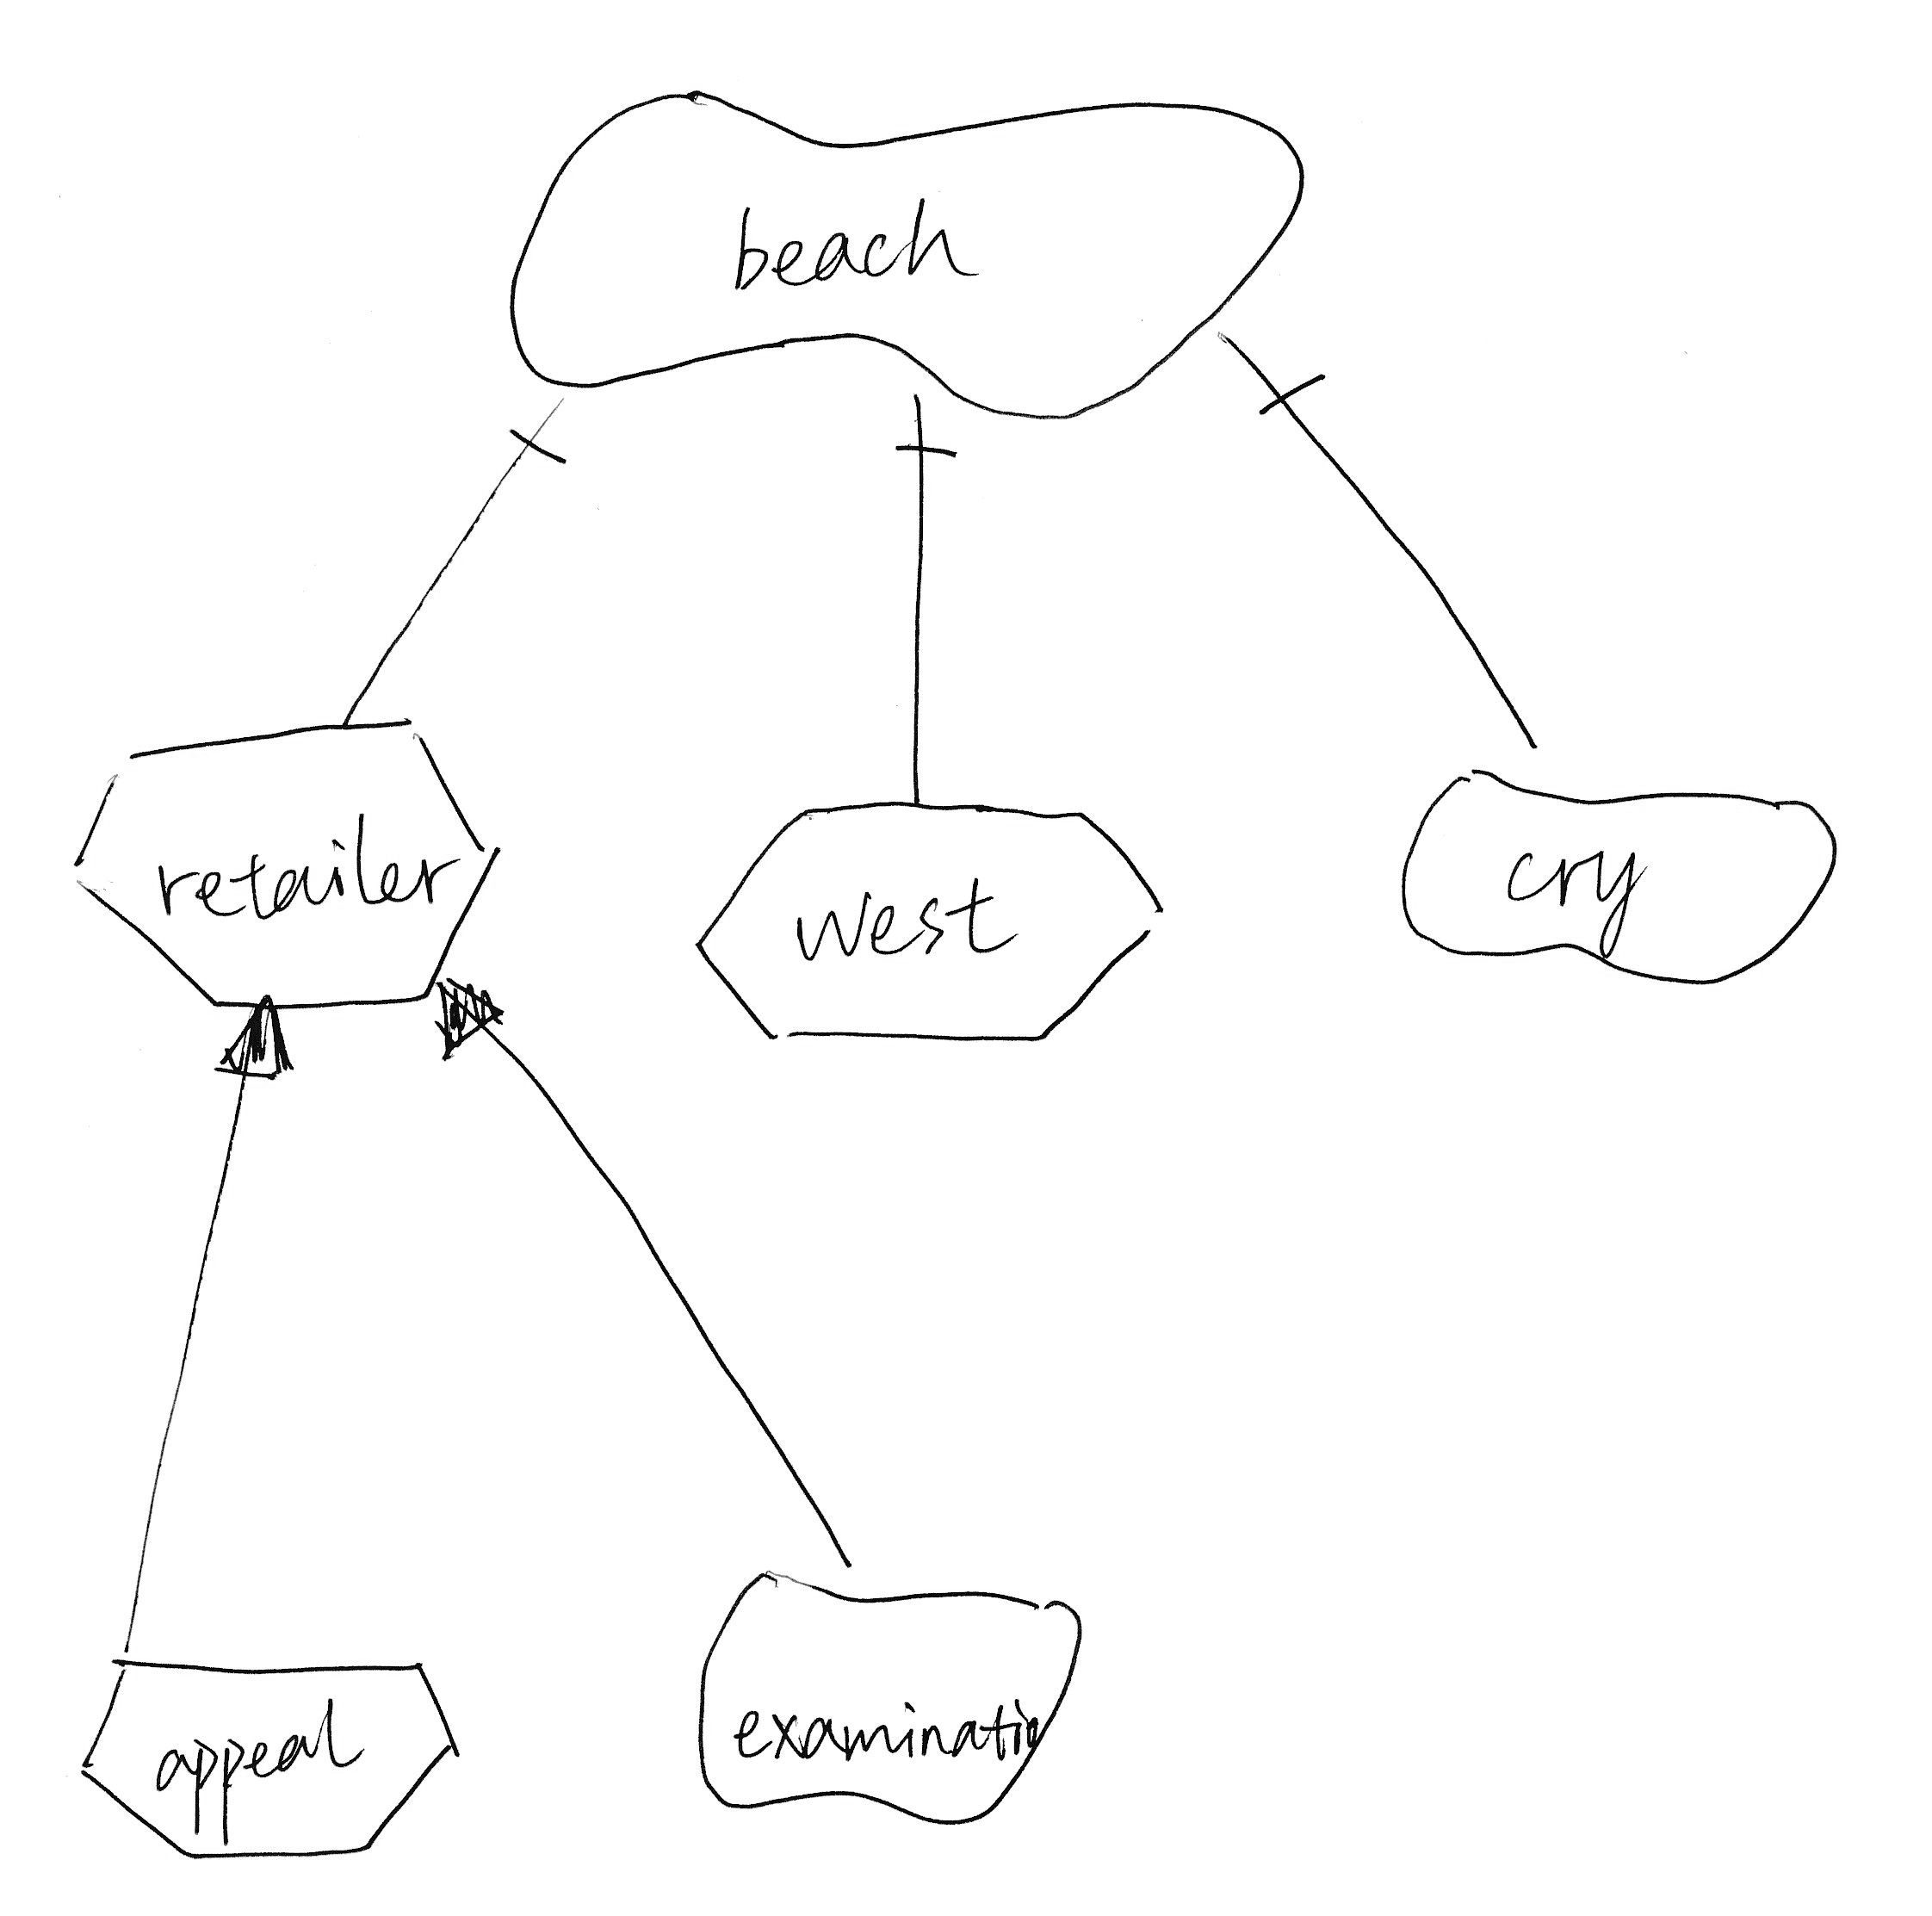and: (1209, 335, 1344, 442), (484, 393, 590, 493), (872, 382, 974, 484)
or: (418, 965, 526, 1070), (193, 993, 305, 1095)
quality: (491, 67, 1318, 433), (683, 1551, 1098, 1842), (1381, 749, 1855, 997)
task: (677, 783, 1193, 1062), (58, 705, 512, 1019), (70, 1642, 481, 1870)
